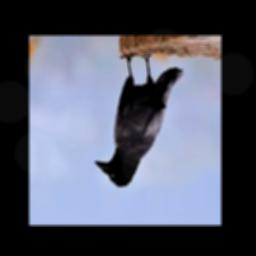Crow: (94, 53, 183, 188)
